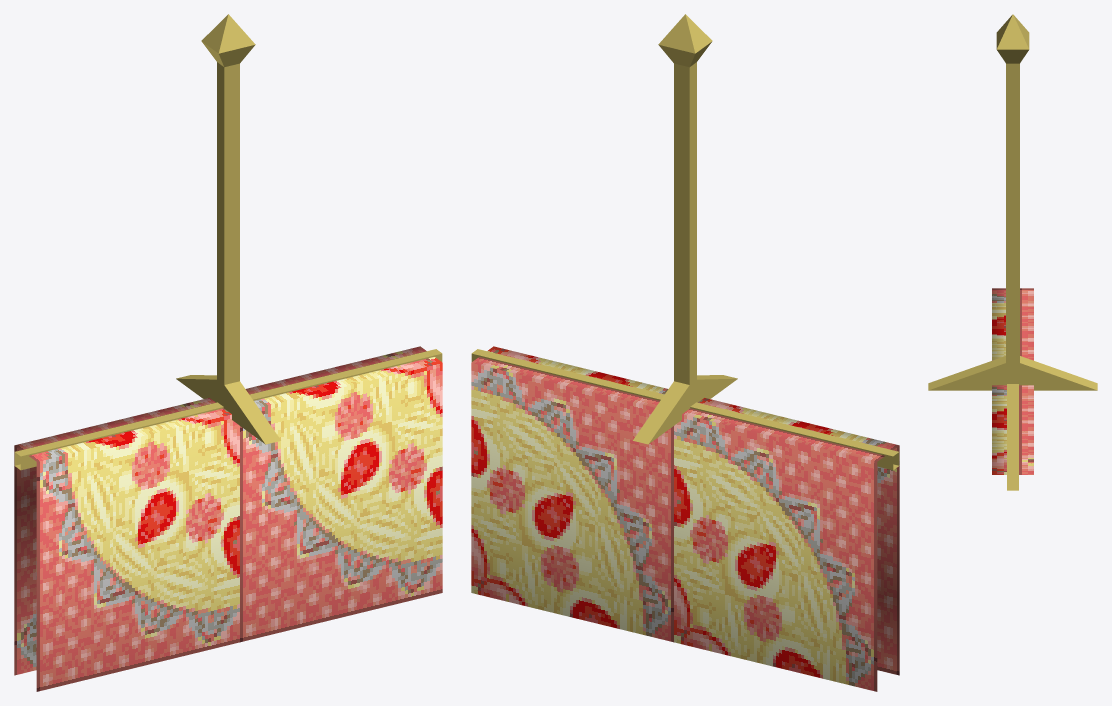
3 views of the same model, side by side, from view 1: azimuth 30°, elevation 25°; view 2: azimuth 150°, elevation 25°; view 3: azimuth 270°, elevation 25° (orthographic). The views are drawn at different scales.
Parts seen in each view (by area): view 1: 4672floor_r; view 2: 4672floor_r; view 3: 4672floor_r.
Boxes of the visible parts, x1,y1,x2,y2 form: 4672floor_r: (14,14,442,691); 4672floor_r: (471,14,899,691); 4672floor_r: (928,14,1097,490).
Bounding box in the file's own units: 1.59 × 2.23 × 0.5869.
Materials: 2 (1 with a texture image).
